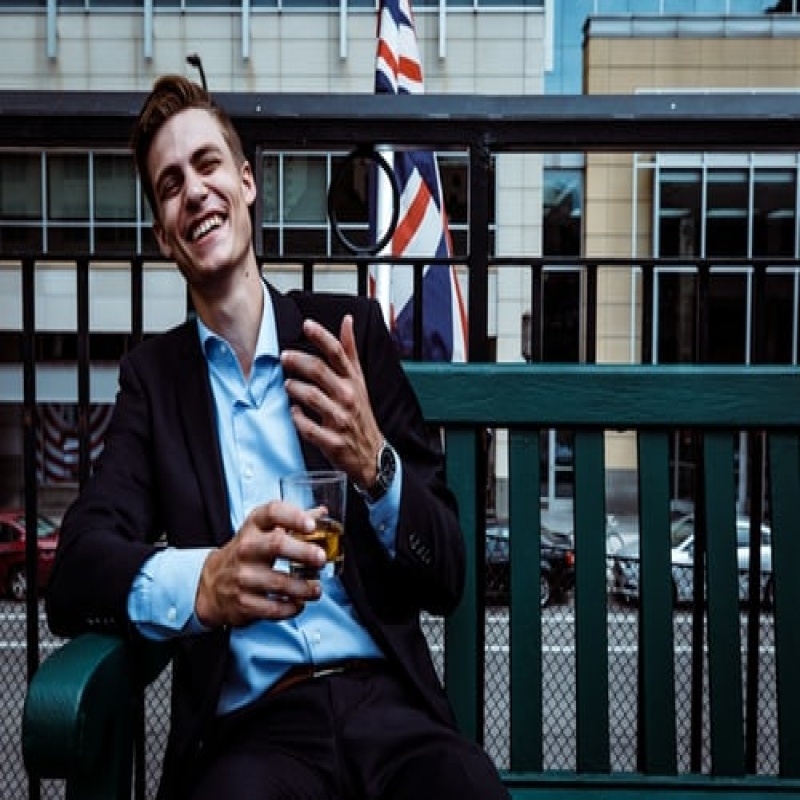whiskey: (278, 472, 355, 571)
